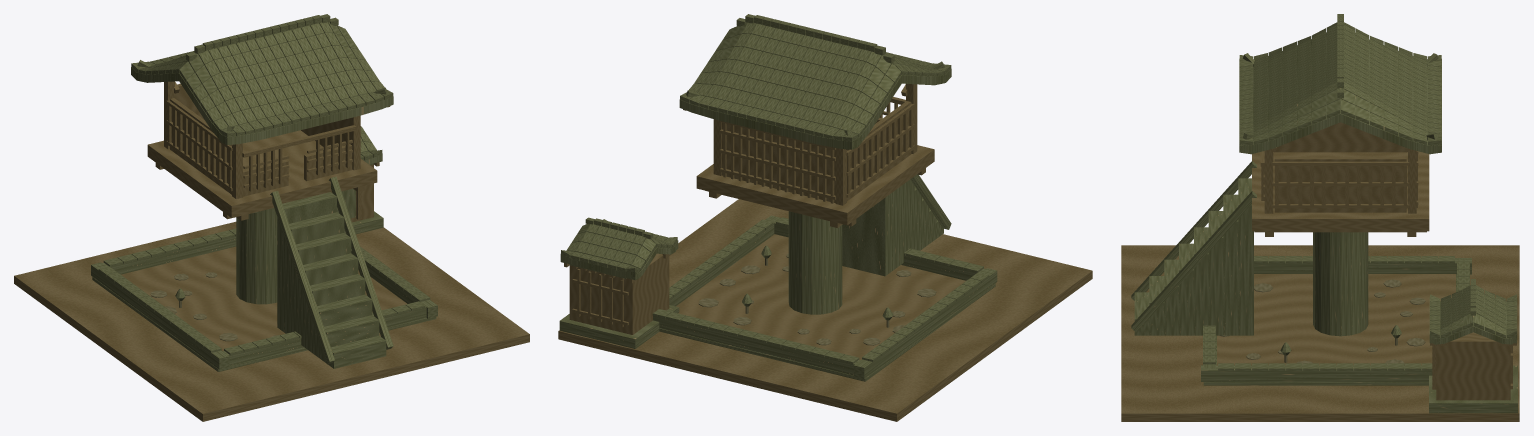
3 views of the same model, side by side, from view 1: azimuth 30°, elevation 25°; view 2: azimuth 150°, elevation 25°; view 3: azimuth 270°, elevation 25° (orthographic). The views are drawn at different scales.
Parts seen in each view (by area): view 1: garrison_part_0001, garrison_part_0000; view 2: garrison_part_0001, garrison_part_0000; view 3: garrison_part_0001, garrison_part_0000.
Boxes of the visible parts, x1,y1,x2,y2 form: garrison_part_0001: [98, 14, 430, 368]; garrison_part_0000: [14, 208, 529, 421]; garrison_part_0001: [560, 14, 989, 364]; garrison_part_0000: [558, 199, 1092, 421]; garrison_part_0001: [1131, 14, 1517, 400]; garrison_part_0000: [1121, 232, 1519, 421].
Size of the model in its own units: 690 by 556 by 690.
